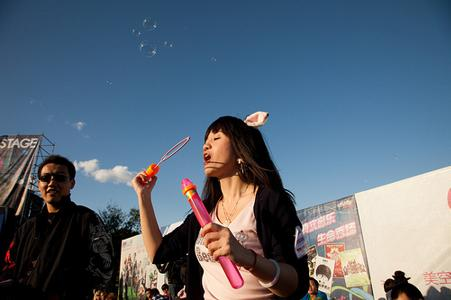person: (134, 114, 310, 300)
